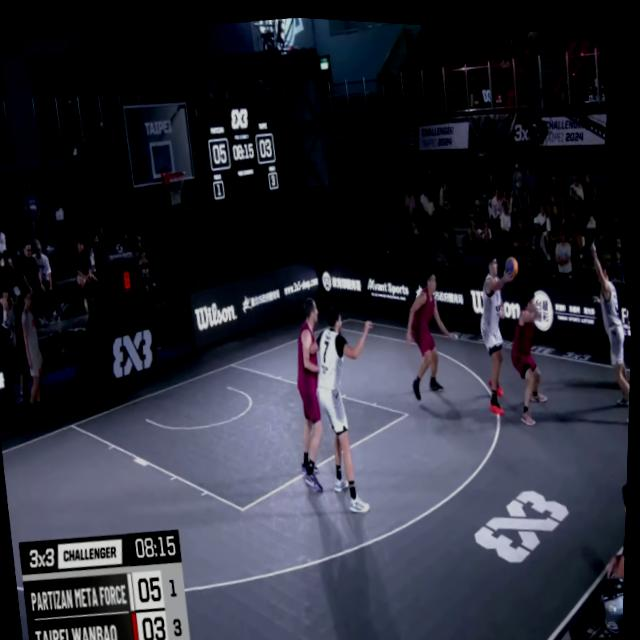ball: (501, 244, 524, 277)
hoop: (159, 161, 191, 207)
player: (306, 298, 397, 517), (281, 287, 348, 497), (468, 245, 538, 413), (395, 260, 467, 399), (582, 232, 635, 417), (501, 281, 557, 423)
